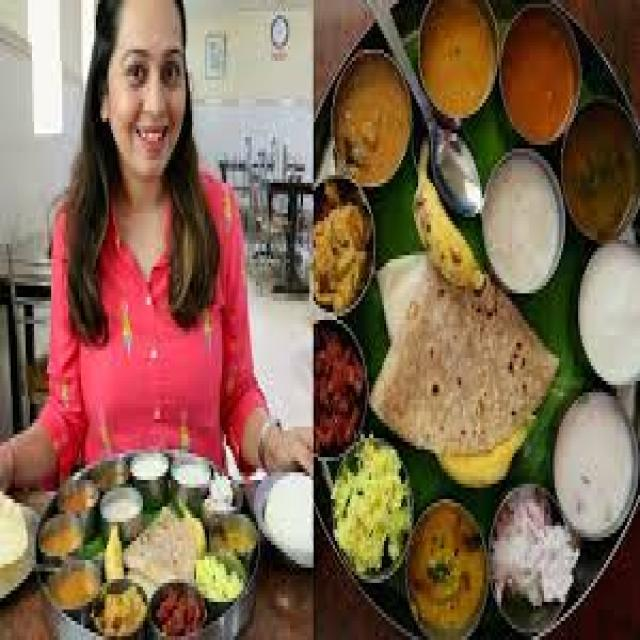curd: (542, 382, 640, 539), (477, 157, 570, 292), (573, 244, 640, 382)
dal: (412, 6, 502, 116), (333, 62, 414, 182)
papad: (372, 262, 561, 476)
pickle: (313, 319, 363, 457)
raita: (571, 241, 640, 382), (262, 473, 312, 573)
rice: (264, 469, 314, 580)
roti: (374, 264, 557, 470)
sambar-rasam: (497, 18, 588, 145), (415, 0, 498, 118)
veg-fry: (403, 488, 490, 640), (311, 182, 378, 321)
